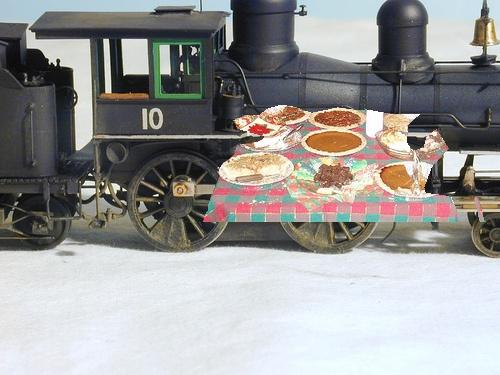tampered: (204, 106, 486, 222)
